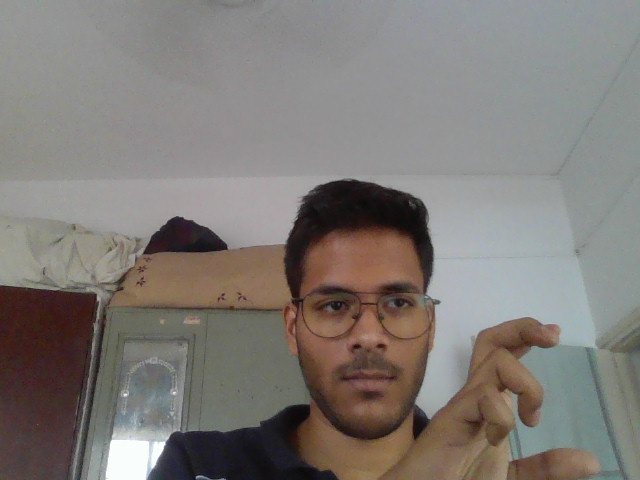no: (366, 301, 609, 480)
